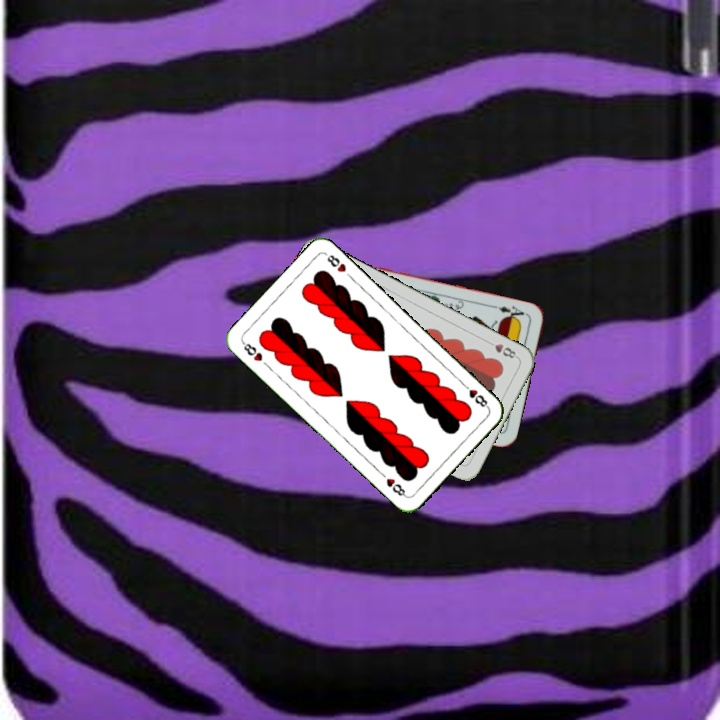EA: (490, 301, 530, 323)
H8: (458, 379, 492, 411), (483, 337, 520, 361), (238, 338, 265, 364)
